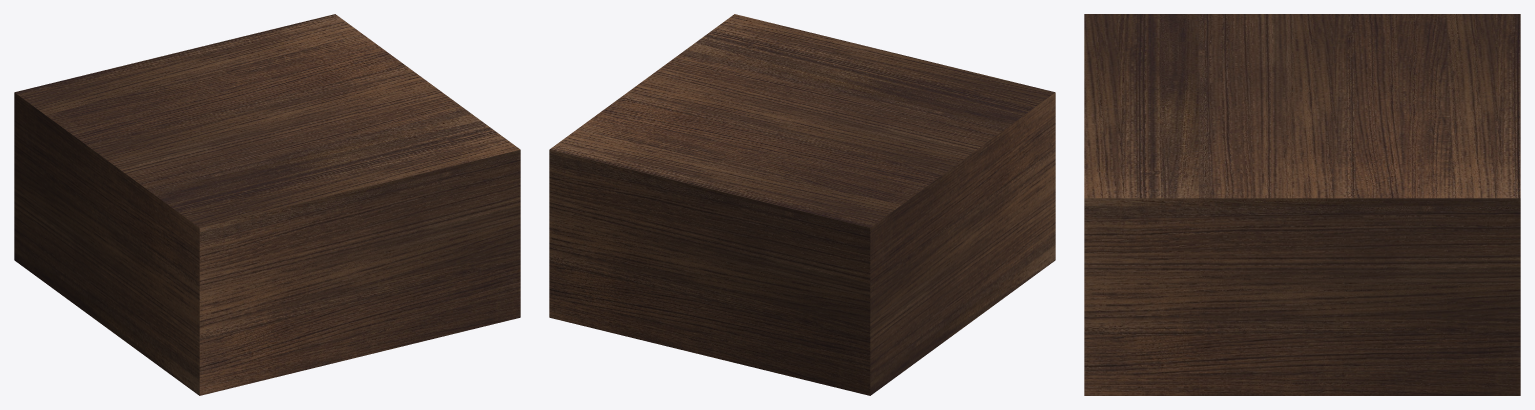
Rendered from wall1.fbx.
The picture shows the model from 3 angles, left to right: view 1: azimuth 30°, elevation 25°; view 2: azimuth 150°, elevation 25°; view 3: azimuth 270°, elevation 25°; orthographic projection. The views are drawn at different scales.
Visible parts, largest first — view 1: Cube; view 2: Cube; view 3: Cube.
Boxes of the visible parts, x1=… form: Cube: x1=14, y1=14, x2=520, y2=395; Cube: x1=549, y1=14, x2=1055, y2=395; Cube: x1=1084, y1=14, x2=1520, y2=395.
Size of the model in its own units: 200 by 100 by 200.
